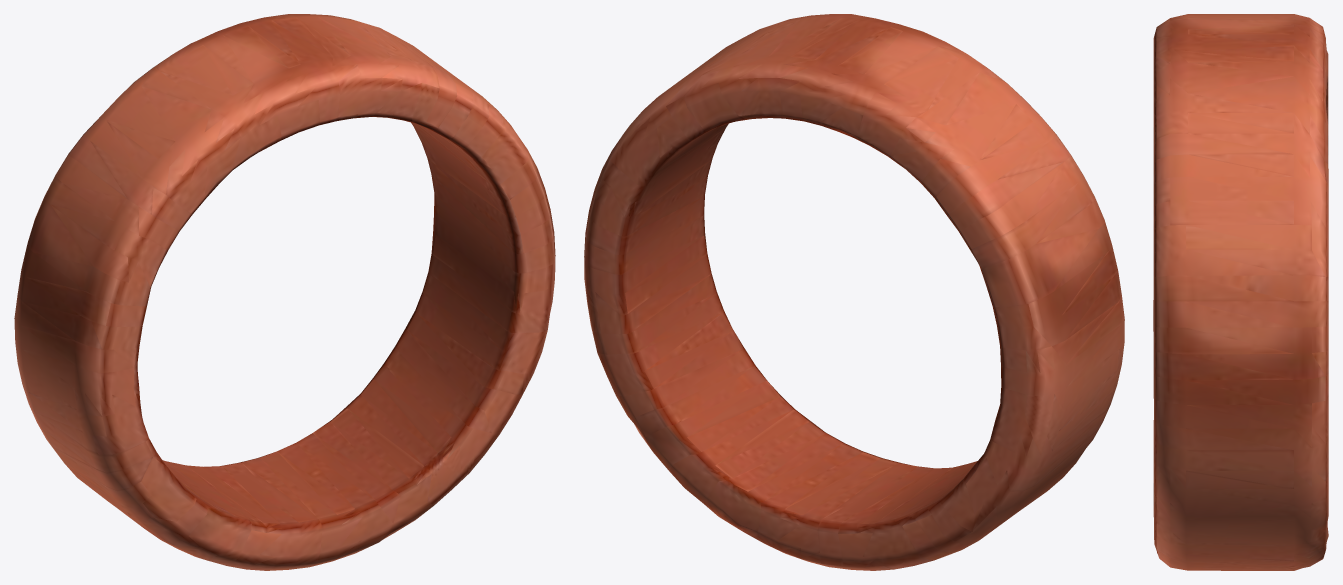
Rendered from item-copperRing.glb.
The picture shows the model from 3 angles, left to right: view 1: azimuth 30°, elevation 25°; view 2: azimuth 150°, elevation 25°; view 3: azimuth 270°, elevation 25°; orthographic projection.
Bounding box in the file's own units: 0.9556 × 0.9517 × 0.2998.
1 material, 1 textured.
